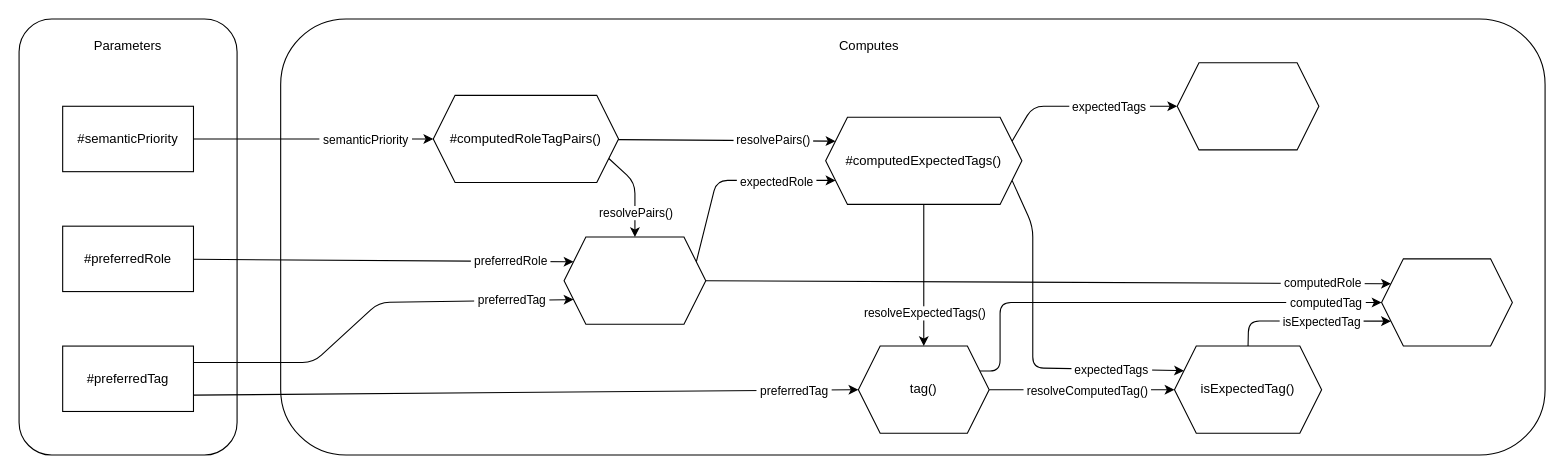
Image size: 1564x474. Some labels were removed from this diagram. Each missing label, with the centre of its shape:
#computedRole(): the point at 634,280
isExpectedRole(): the point at 1247,106
role(): the point at 1446,302
